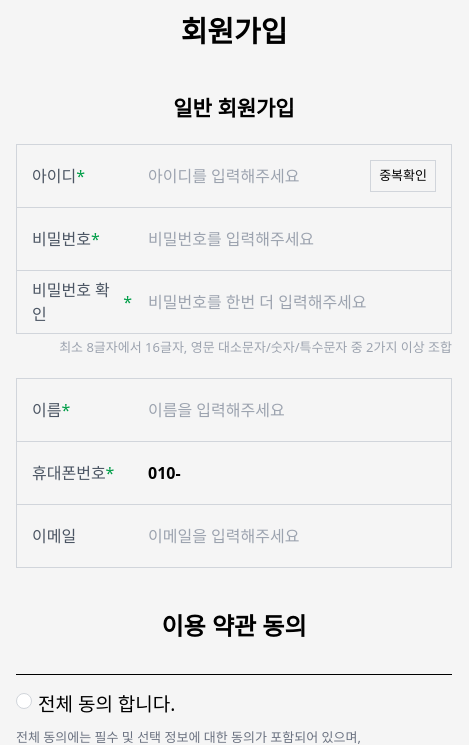
회원가입 › 핸드폰 번호를 3글자 이상 입력하면 세번째 글자 뒤에 -가 붙어야합니다.
Replace the text in the field with placeholder "휴대폰번호를 입력해주세요" with "0101". click: (284, 472)
box: [132, 446, 436, 498]
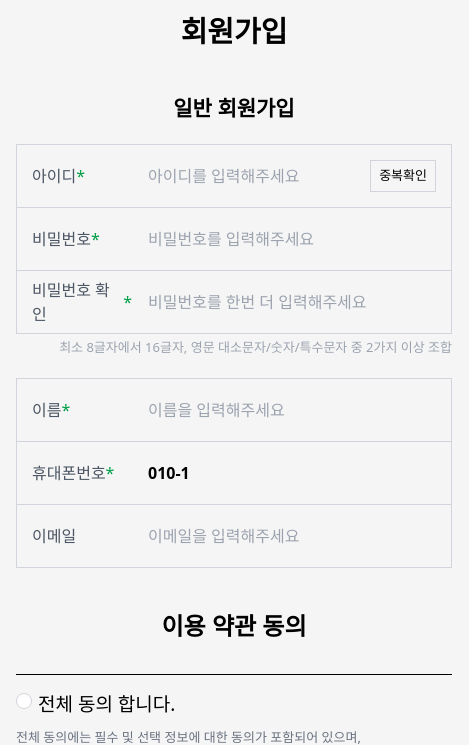
Check: the field with placeholder "휴대폰번호를 입력해주세요" holds "010-1", box [132, 446, 436, 498]
